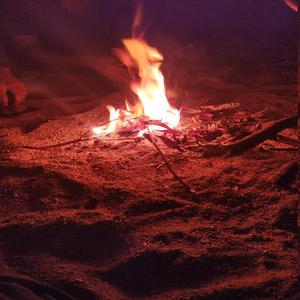fire: (100, 32, 184, 144)
